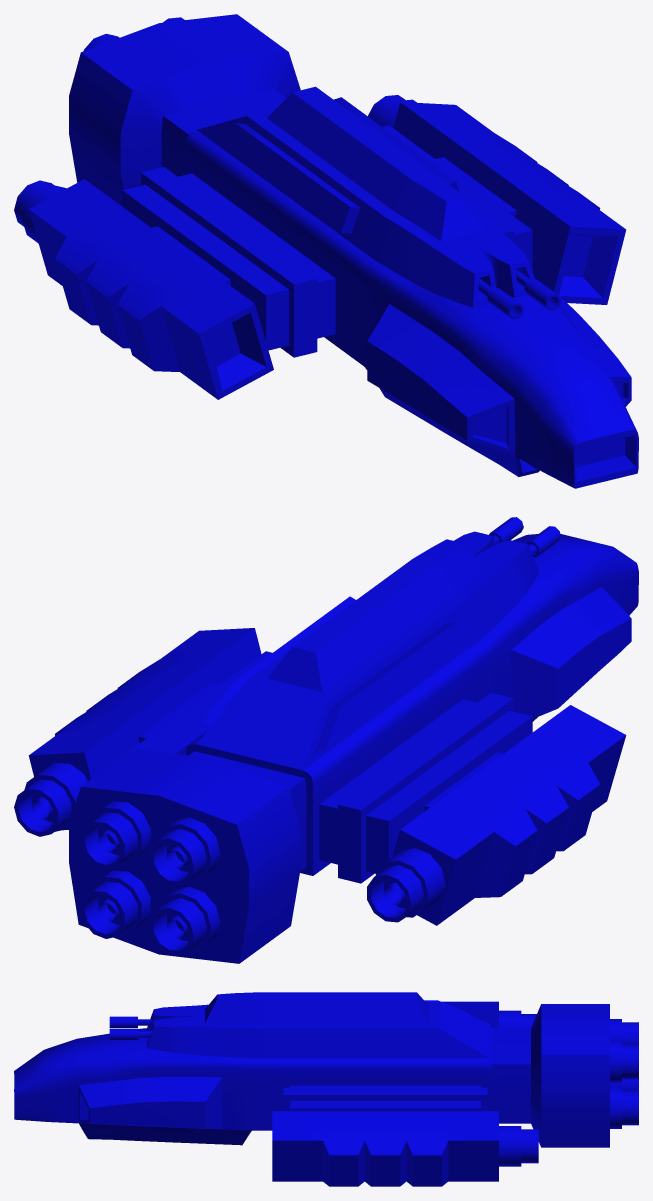
File: Spaceship.fbx
The picture shows the model from 3 angles, top to bottom: view 1: azimuth 30°, elevation 25°; view 2: azimuth 150°, elevation 25°; view 3: azimuth 270°, elevation 25°; orthographic projection. The views are drawn at different scales.
Visible parts, largest first — view 1: Box001; view 2: Box001; view 3: Box001.
Boxes of the visible parts, x1,y1,x2,y2 form: Box001: (14,14,638,488); Box001: (14,517,638,963); Box001: (14,992,638,1186).
Size of the model in its own units: 0.0359 by 0.0149 by 0.0634.
